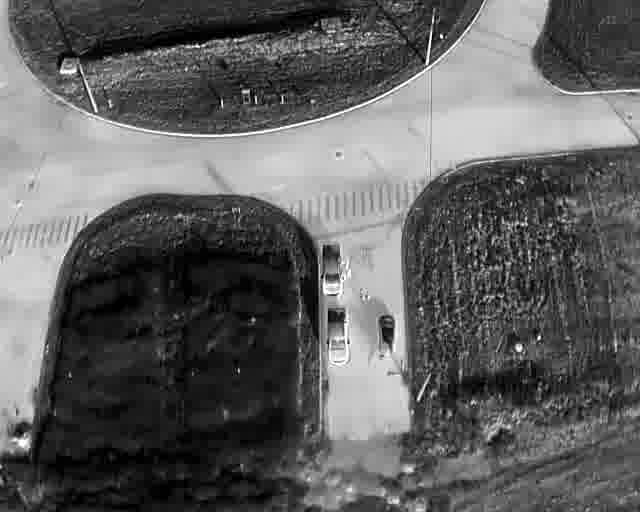car: (324, 307, 349, 366), (319, 243, 341, 295), (377, 315, 395, 357)
person: (364, 288, 371, 303), (366, 351, 373, 366), (400, 357, 406, 373), (392, 340, 398, 355), (347, 264, 353, 279), (346, 255, 352, 270), (341, 265, 347, 280), (358, 288, 364, 302)
